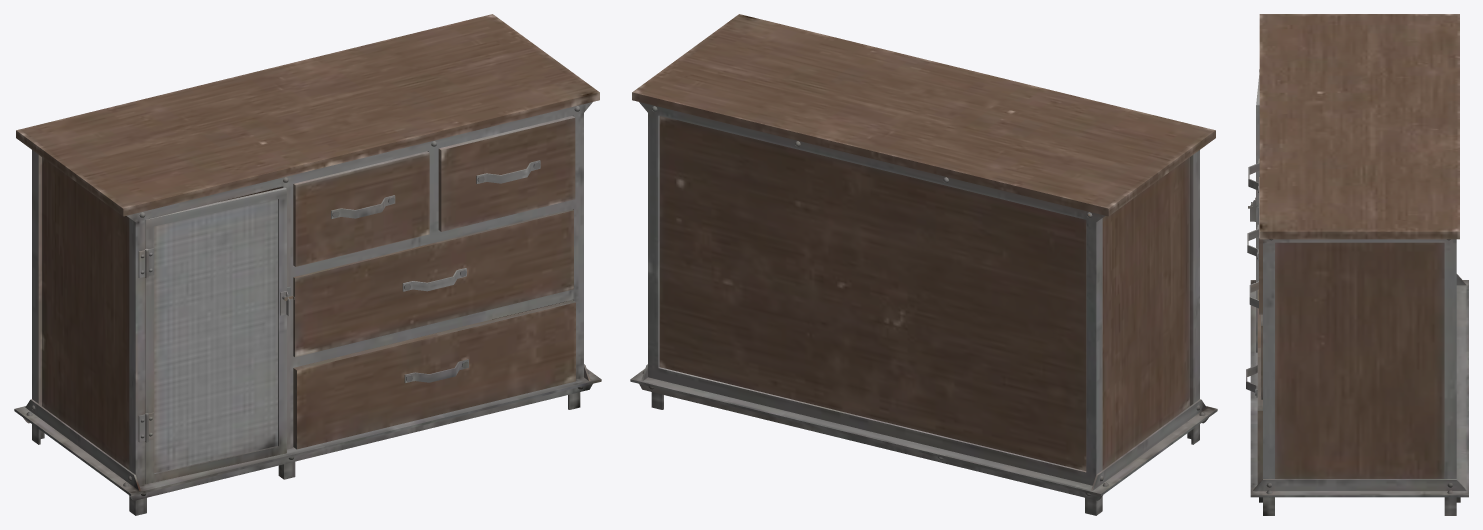
Rendered from WoodenTable_03.glb.
The picture shows the model from 3 angles, left to right: view 1: azimuth 30°, elevation 25°; view 2: azimuth 150°, elevation 25°; view 3: azimuth 270°, elevation 25°; orthographic projection. The views are drawn at different scales.
Visible parts, largest first — view 1: WoodenTable_03_drawer02; view 2: WoodenTable_03_drawer02; view 3: WoodenTable_03_drawer02.
Part boxes in pixels (<box>): WoodenTable_03_drawer02: <box>14,14,601,515</box>; WoodenTable_03_drawer02: <box>630,14,1217,515</box>; WoodenTable_03_drawer02: <box>1246,14,1468,515</box>.
Size of the model in its own units: 1.33 by 0.83 by 0.5739.
1 material, 1 textured.
